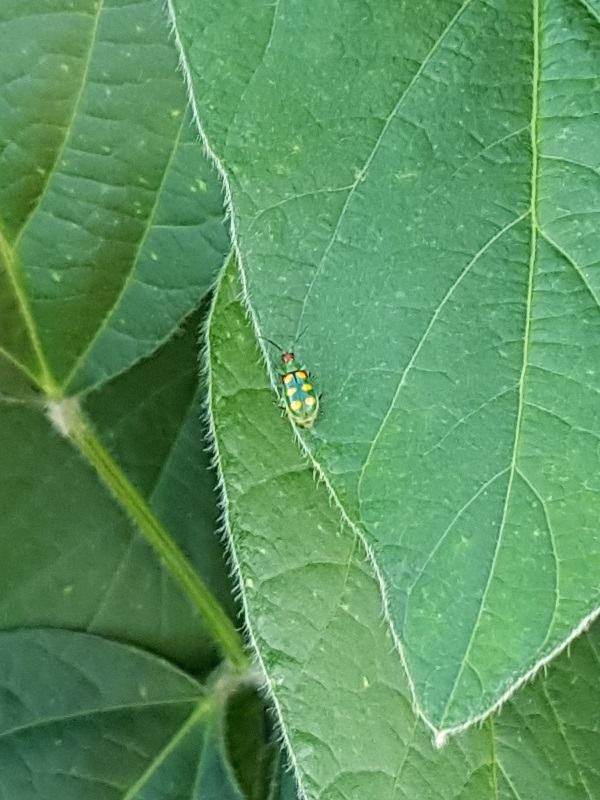Diabrotica_speciosa: (244, 323, 349, 447)
